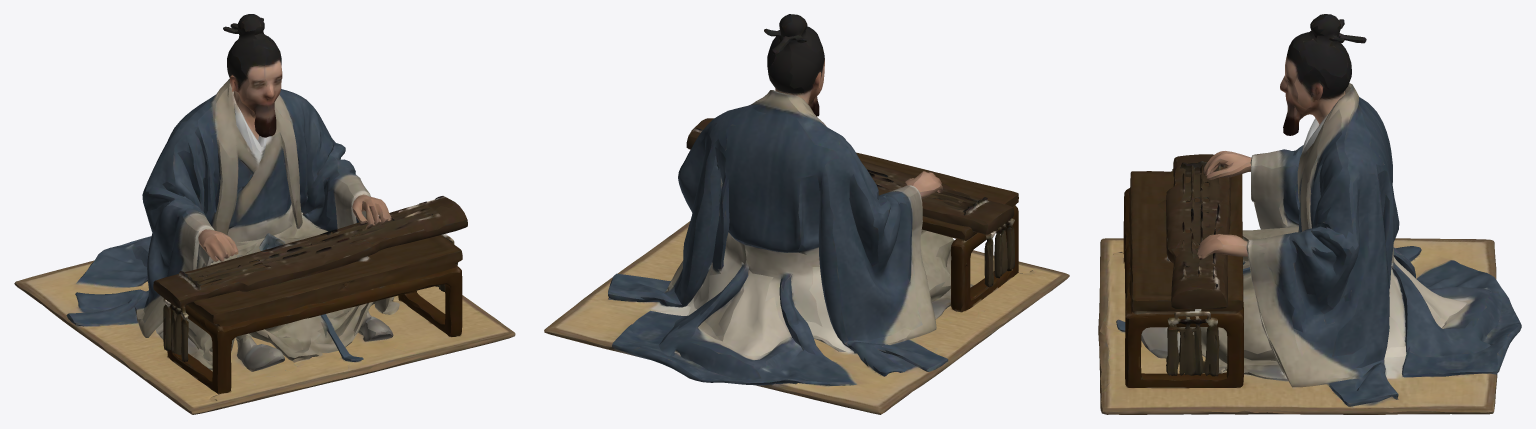
The model's file is qin_player_diorama.glb.
3 renders of one model, left to right at view 1: azimuth 30°, elevation 25°; view 2: azimuth 150°, elevation 25°; view 3: azimuth 270°, elevation 25°, orthographic. The views are drawn at different scales.
Parts seen in each view (by area): view 1: geometry_0; view 2: geometry_0; view 3: geometry_0.
Boxes of the visible parts, <box> form: geometry_0: <box>14,14,515,414</box>; geometry_0: <box>544,14,1069,414</box>; geometry_0: <box>1098,14,1521,414</box>.
Bounding box in the file's own units: 1.2 × 1.01 × 1.23.
1 material, 1 textured.
